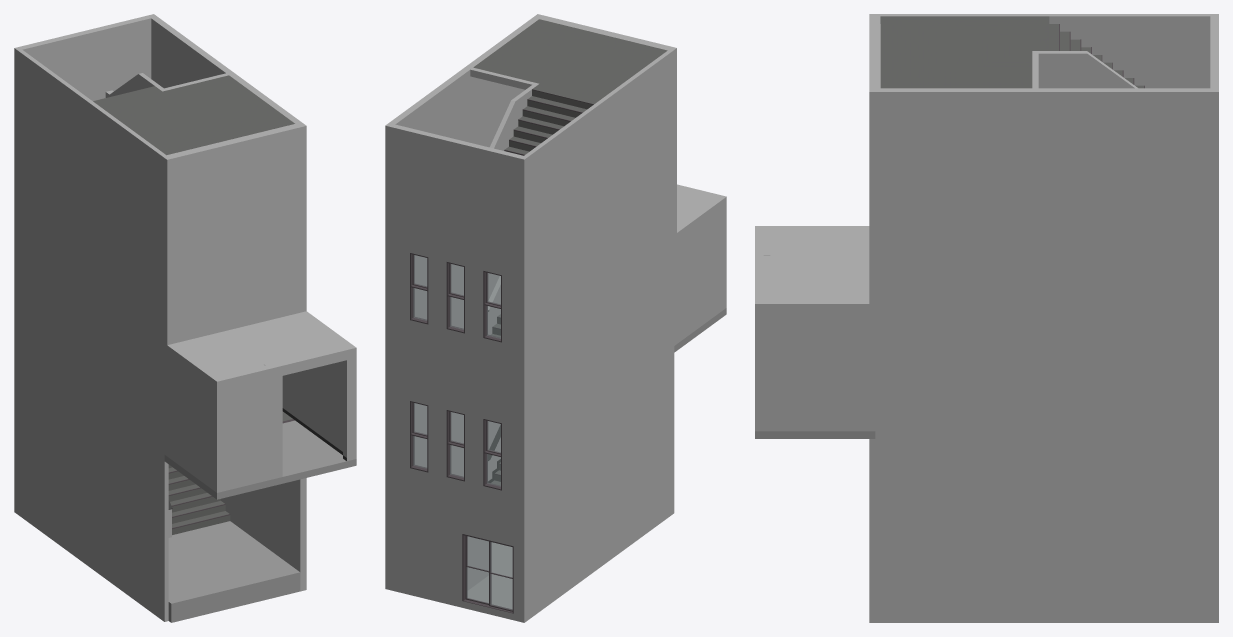
File: school-stairs-CSqhIRLX.glb
3 views of the same model, side by side, from view 1: azimuth 30°, elevation 25°; view 2: azimuth 150°, elevation 25°; view 3: azimuth 270°, elevation 25° (orthographic). The views are drawn at different scales.
Parts seen in each view (by area): view 1: Object_7; view 2: Object_7, Object_62; view 3: Object_7.
Part boxes in pixels (<box>): Object_7: <box>14,14,356,622</box>; Object_7: <box>385,14,726,622</box>; Object_62: <box>413,255,512,609</box>; Object_7: <box>755,14,1218,622</box>.
Bounding box in the file's own units: 4.33 × 13.77 × 10.9.
2 materials, 2 textured.
